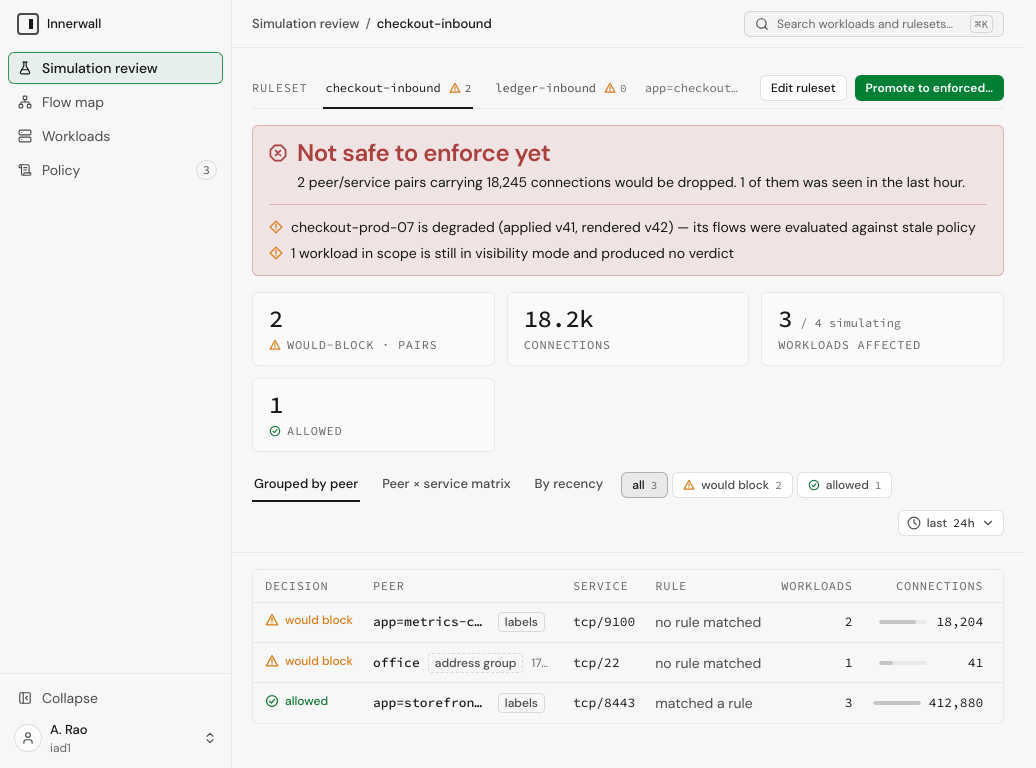
Test: simulation review › switches rulesets by tab, to a safe verdict
Click the tab "ledger-inbound 0" at (561, 89), box 493,69 -> 629,109
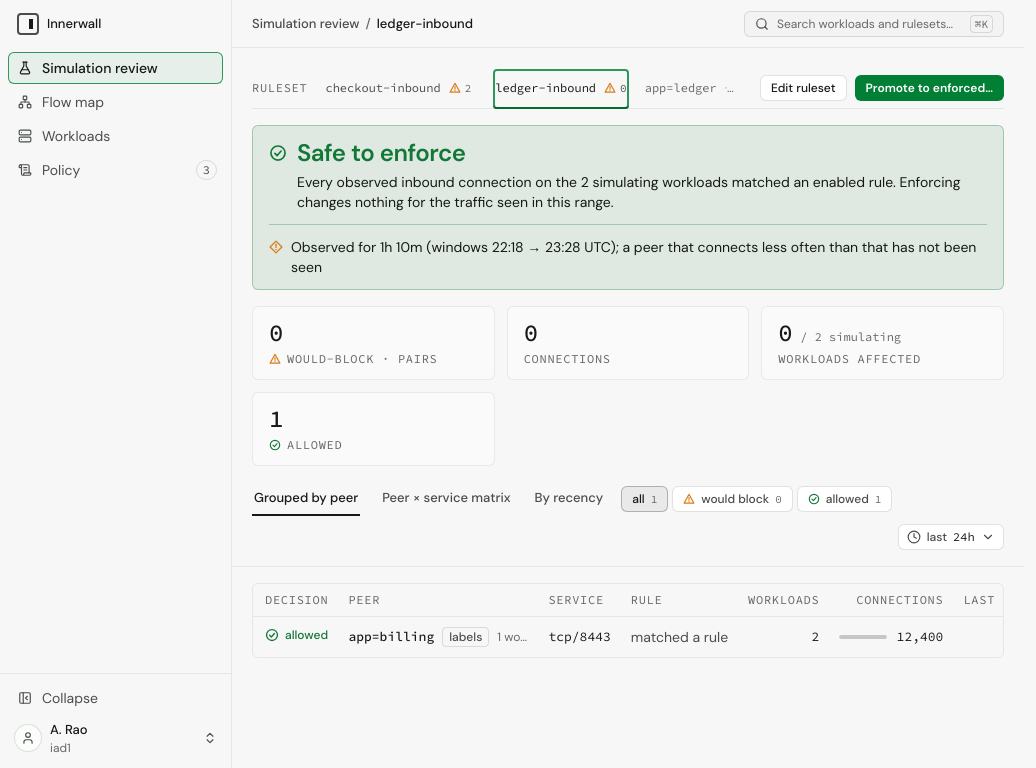
Expected: the heading "Safe to enforce" is shown, 297,137 -> 466,168
Now the element named "Verdict" shows "Every observed inbound connection on the 2 simulating workloads matched an enabled rule.", box 297,173 -> 960,211
Now the navigation bar named "Breadcrumb" shows "ledger-inbound", box 377,14 -> 473,32
